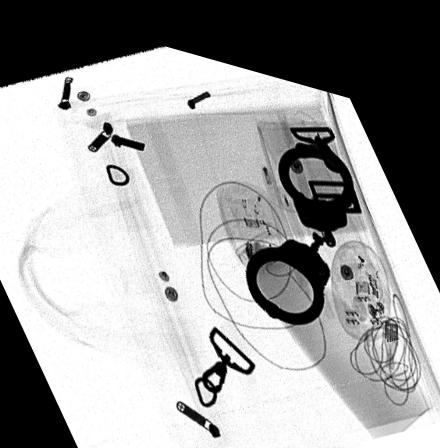HandCuffs: (246, 117, 355, 308)
